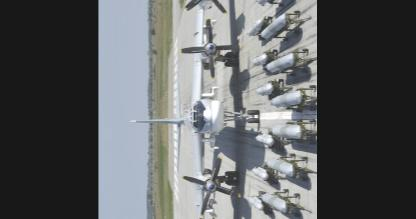Su57: (127, 0, 261, 218)
